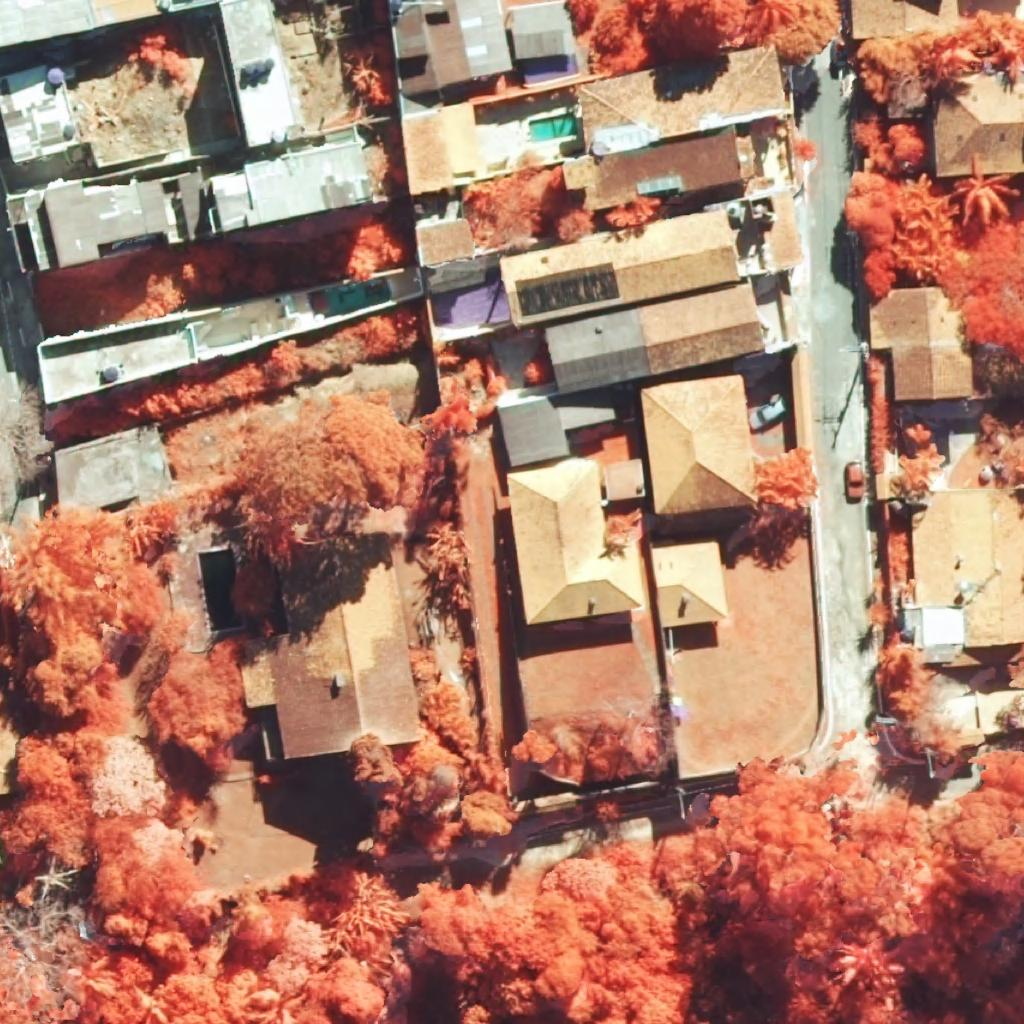pool: (529, 112, 578, 143)
